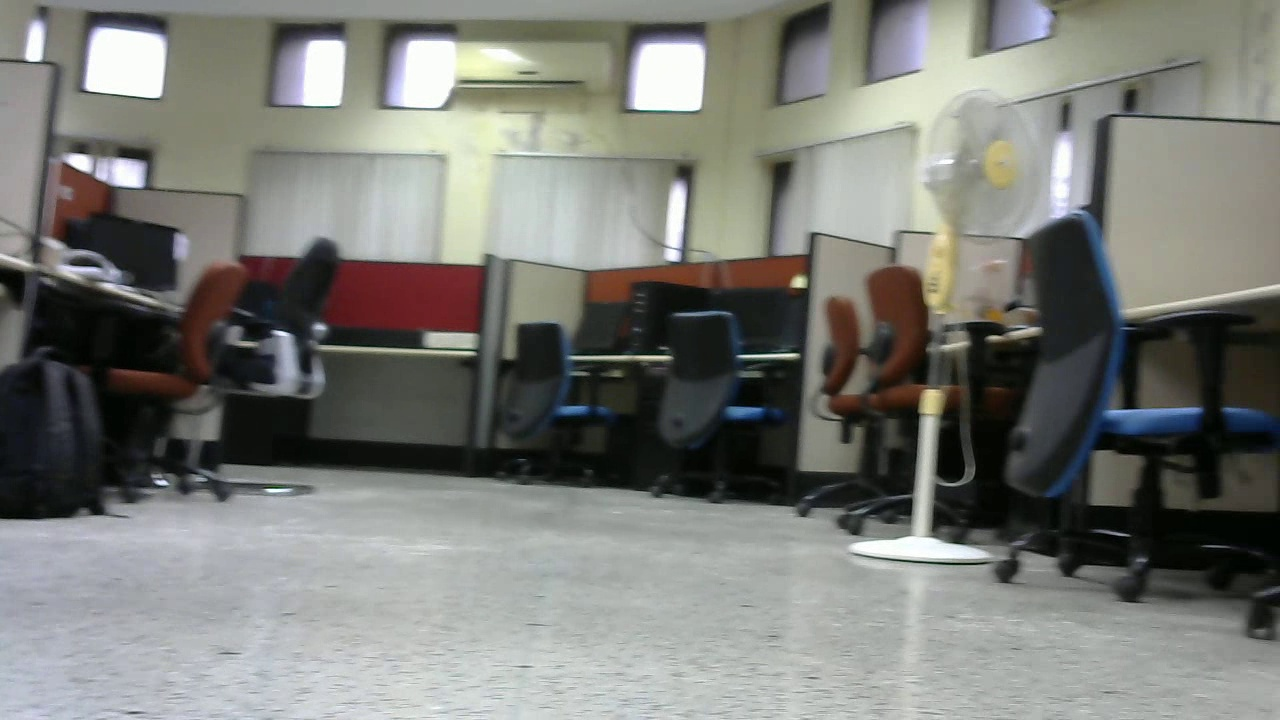chair: (990, 211, 1276, 631), (801, 266, 1020, 535), (96, 262, 247, 498), (640, 310, 797, 506), (229, 236, 336, 499), (490, 323, 634, 487)
